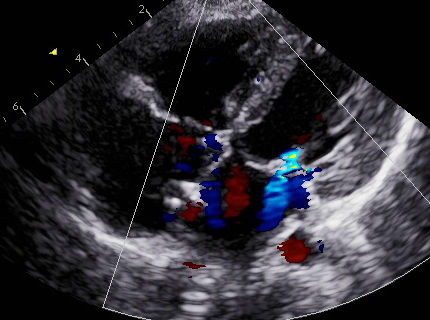MR: (244, 145, 312, 199)
